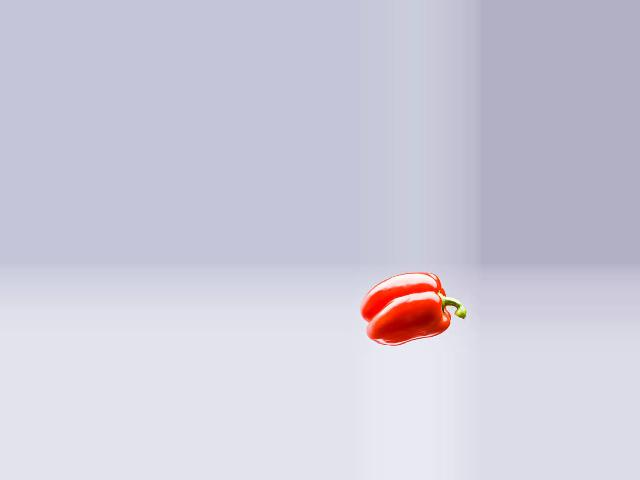bell_pepper: (363, 268, 467, 347)
